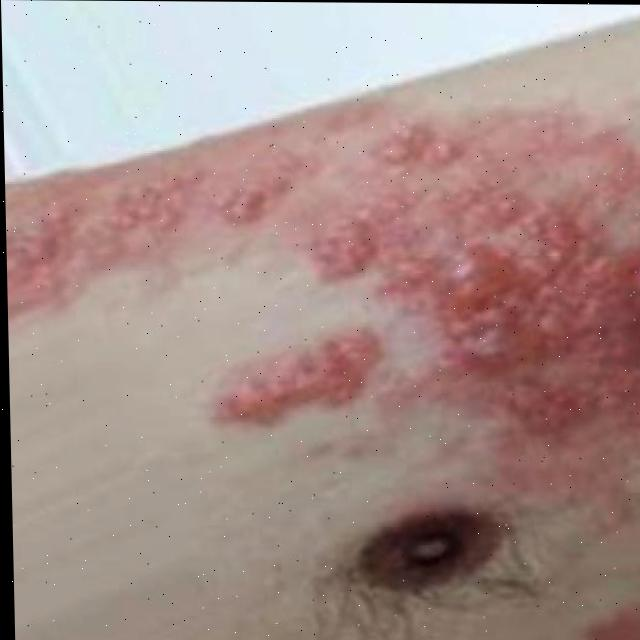Shingles: (3, 122, 640, 464)
